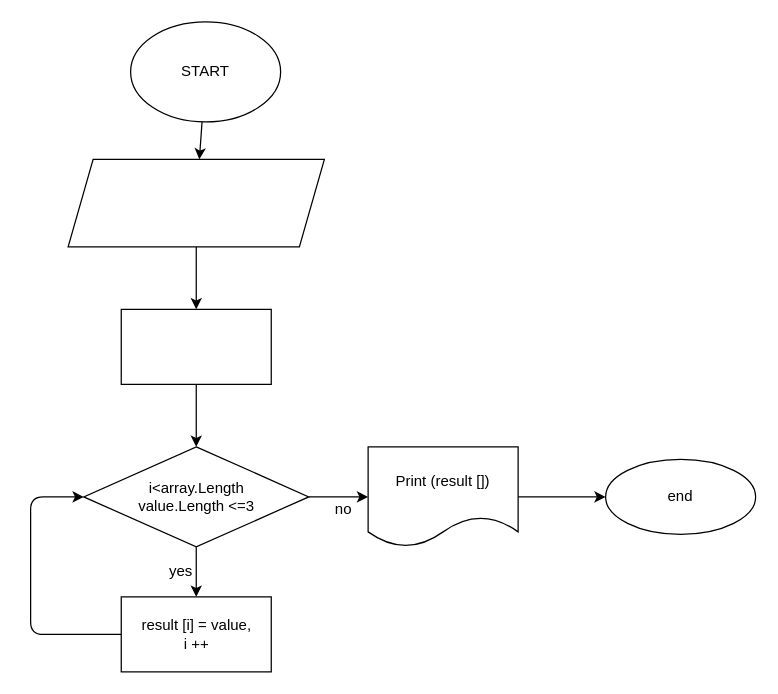
The diagram is 778 pixels wide and 694 high, and some of its shapes have lost their labels. Each missing label, with the box of its shape:
array [] = {hello, world,I,love,you}: (67, 158, 324, 247)
result [], i = 0, value: (120, 308, 271, 384)
